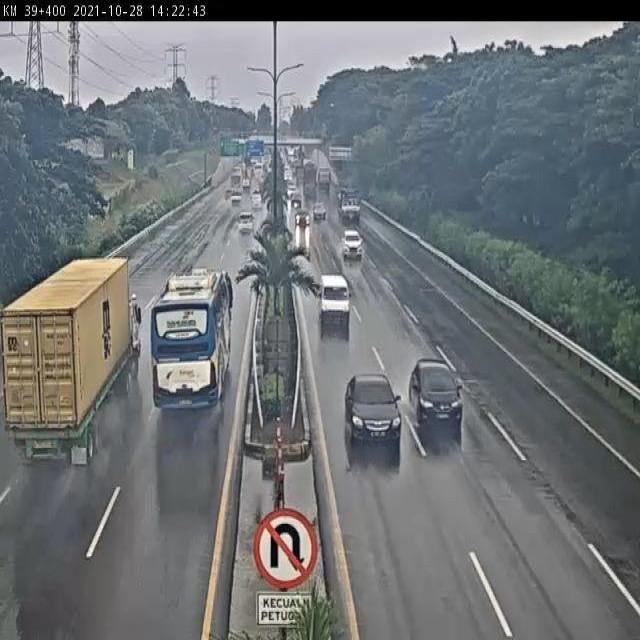bus-l-: (149, 266, 235, 414)
truck-xl-: (2, 256, 140, 460)
